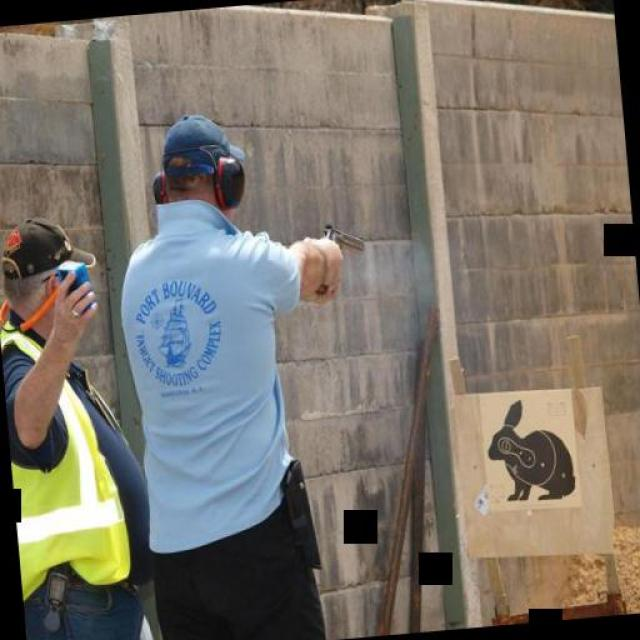gun: (314, 212, 370, 278)
